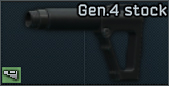AR-15 DoubleStar ACE SOCOM Gen.4 stock: (0, 0, 169, 86)
